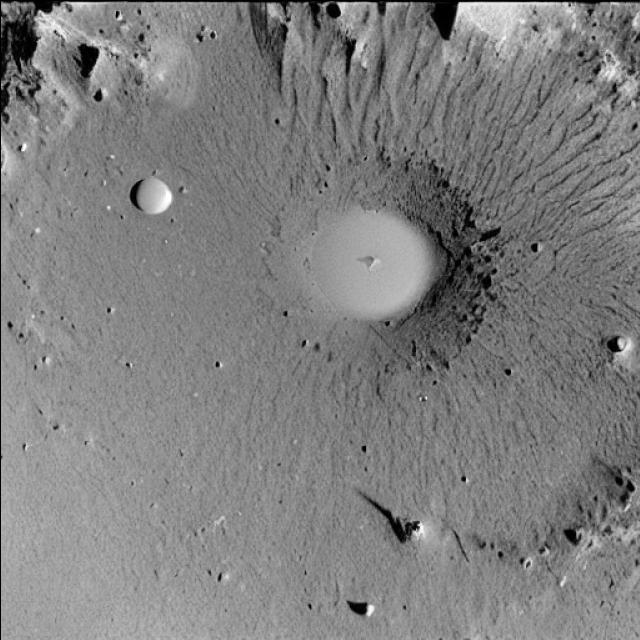crater: (264, 150, 488, 370)
